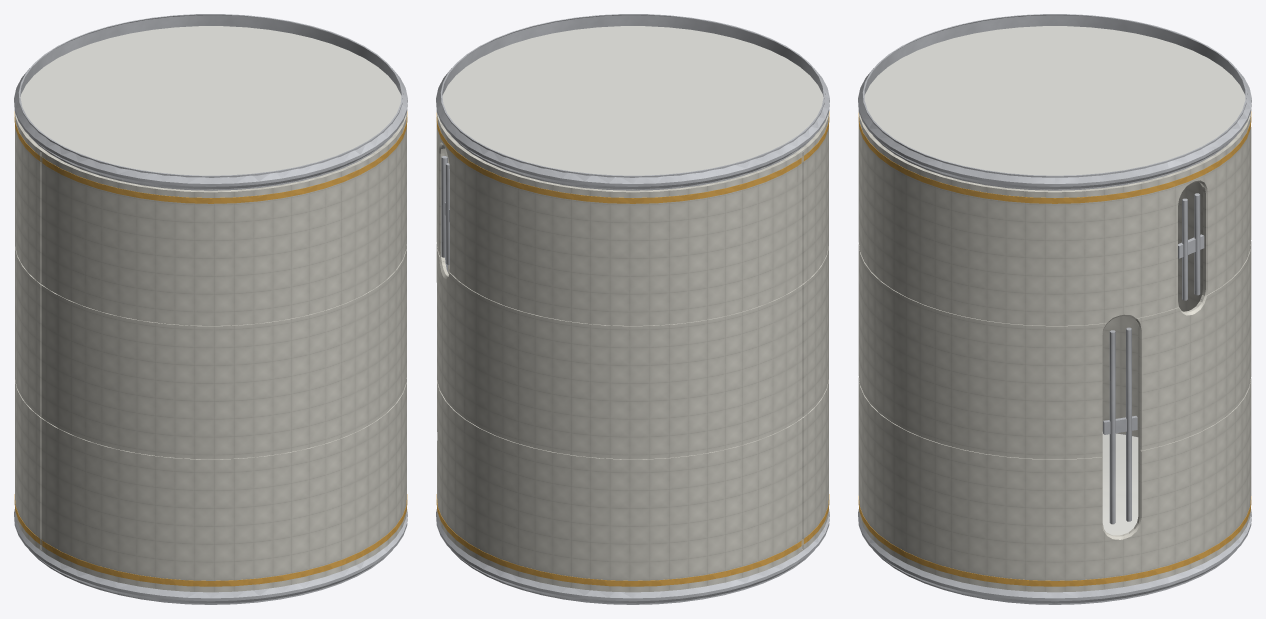
Rendered from ax_tank_05_hydrolox_xl_short.glb.
The picture shows the model from 3 angles, left to right: view 1: azimuth 30°, elevation 25°; view 2: azimuth 150°, elevation 25°; view 3: azimuth 270°, elevation 25°; orthographic projection.
Parts seen in each view (by area): view 1: mli_blanket, dome_caps, end_rings, blanket_bands; view 2: mli_blanket, dome_caps, end_rings, blanket_bands, raceway_lines; view 3: mli_blanket, dome_caps, end_rings, blanket_bands, raceway_lines.
Part boxes in pixels (x1,y1,x2,y2): mli_blanket: (15,112,406,592); dome_caps: (20,26,401,189); end_rings: (14,14,407,604); blanket_bands: (14,111,407,586); mli_blanket: (436,111,828,592); dome_caps: (442,26,823,189); end_rings: (436,14,829,604); blanket_bands: (436,111,829,586); raceway_lines: (441,156,449,271); mli_blanket: (858,111,1251,592); dome_caps: (864,26,1245,535); end_rings: (858,14,1251,604); blanket_bands: (858,111,1251,586); raceway_lines: (1103,193,1204,524).
Size of the model in its own units: 5 by 6 by 5.
Materials: 4 (3 with a texture image).
